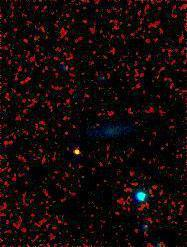star: (65, 137, 95, 167)
